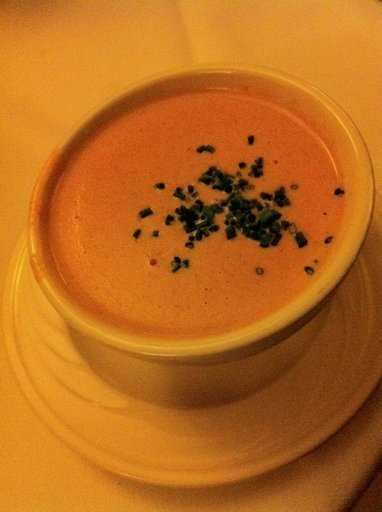soup: (25, 98, 345, 347)
